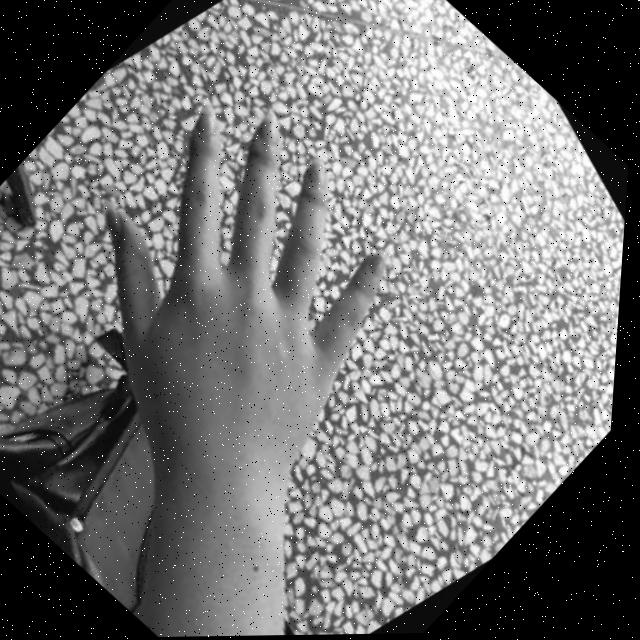hand: (0, 53, 494, 547)
